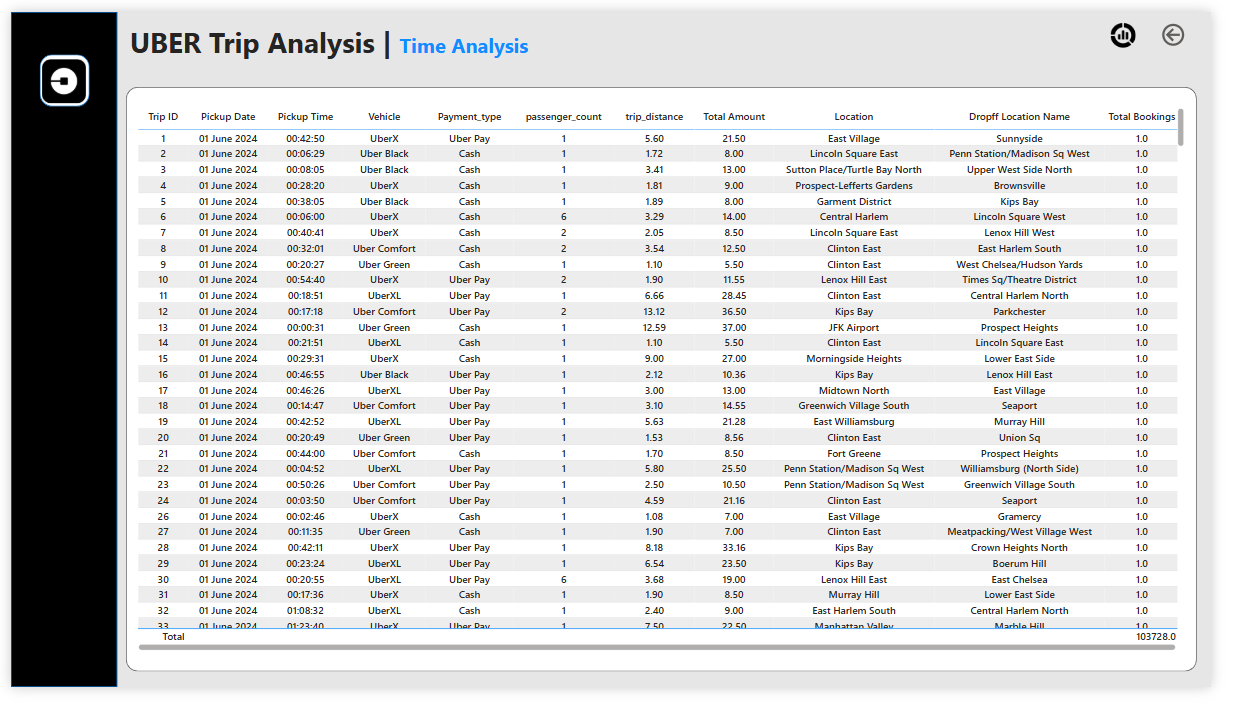

Layout of this report page (visuals, bound fields, positions):
{"tool":"powerbi","page":{"name":"Details","canvas":[1600,900],"ordinal":2},"visuals":[{"type":"shape","box":[0,0,141.8,900],"z":0},{"type":"textbox","box":[153.8,10.3,941,71.8],"z":1000},{"type":"shape","box":[153.8,100,1428.2,779.5],"z":2000},{"type":"tableEx","fields":{"Values":["Trip Details.Trip ID","Trip Details.Pickup Date","Trip Details.Pickup Time","Trip Details.Vehicle","Trip Details.Payment_type","Trip Details.passenger_count","Trip Details.trip_distance","Trip Details.Total Amount","Location Table.Location","select","Trip Details.Dropff Location Name","Trip Details.Total Bookings"]},"box":[164,123.8,1405.9,733.1],"z":3000},{"type":"actionButton","box":[1530.7,10.6,39.2,40.7],"z":4000},{"type":"image","box":[1461.3,9,42.2,45.2],"z":5000},{"type":"shape","box":[37.7,57.3,66.4,69.4],"z":6000},{"type":"image","box":[36.2,58.8,67.9,67.9],"z":7000}]}

Visuals, with their boxes in screenshot pixels (x1, y1, x2, y2), scaled from the page's 1600x900 canvas onto the 1244x709 screenshot:
shape: <region>0, 0, 110, 708</region>
textbox: <region>120, 8, 851, 65</region>
shape: <region>120, 79, 1230, 693</region>
tableEx - Trip Details.Trip ID x Trip Details.Pickup Date: <region>128, 98, 1221, 675</region>
actionButton: <region>1190, 8, 1221, 40</region>
image: <region>1136, 7, 1169, 43</region>
shape: <region>29, 45, 81, 100</region>
image: <region>28, 46, 81, 100</region>
